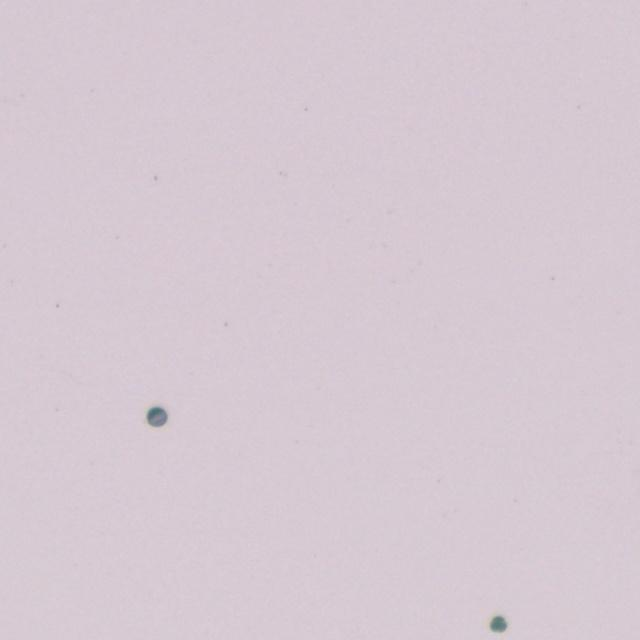non_viable: (147, 407, 167, 426), (490, 615, 507, 632)
